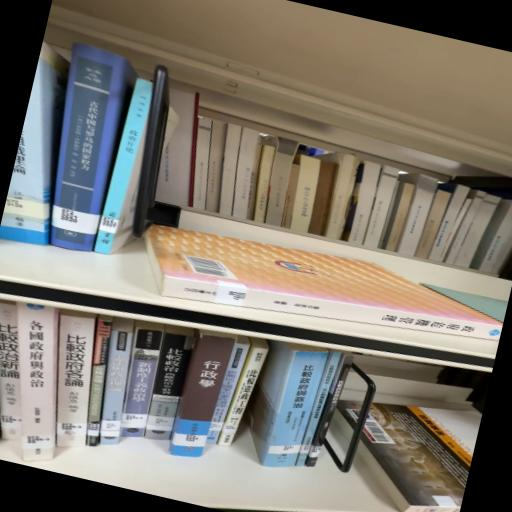flat: (145, 226, 504, 343), (363, 404, 483, 512)
